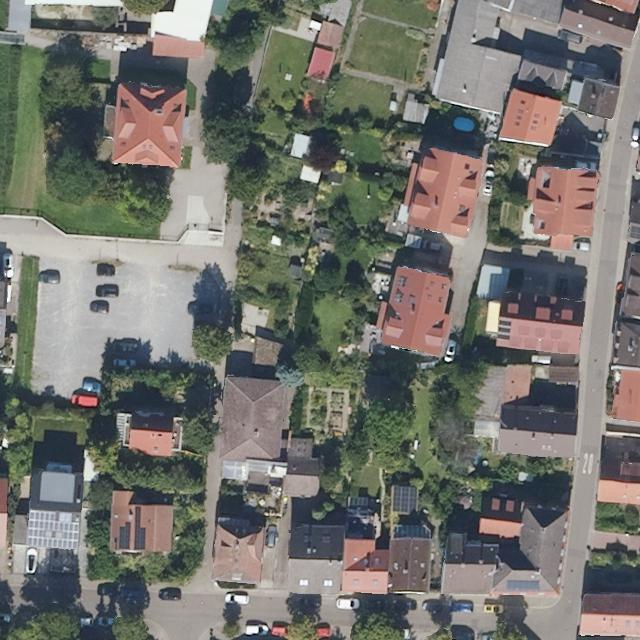PV: (22, 509, 82, 553), (391, 485, 419, 514), (134, 504, 147, 553), (118, 520, 132, 554)
